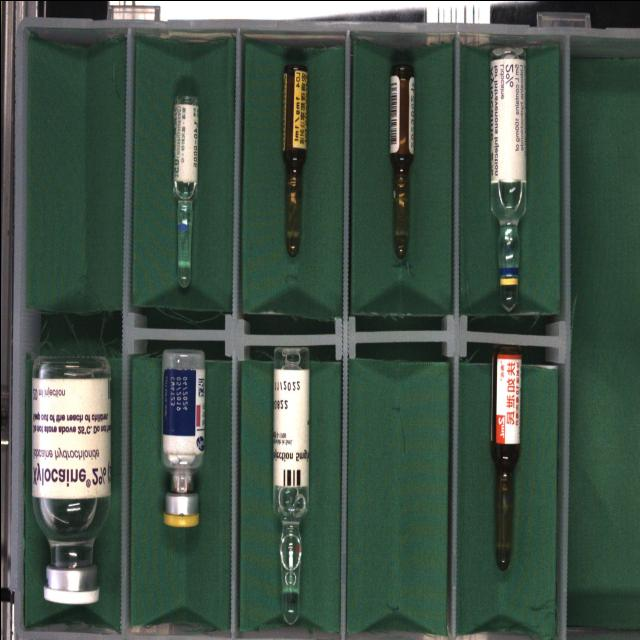Vials: (31, 355, 109, 603), (161, 348, 204, 527)
